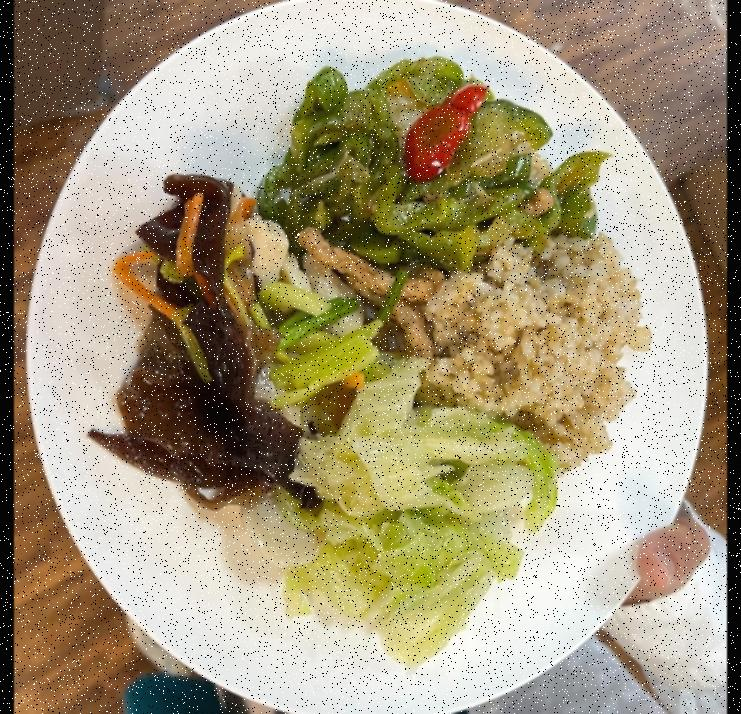brown rice: (427, 220, 656, 458)
plate: (33, 0, 718, 714)
side dish: (280, 308, 574, 658), (102, 168, 312, 530), (278, 55, 600, 254)
